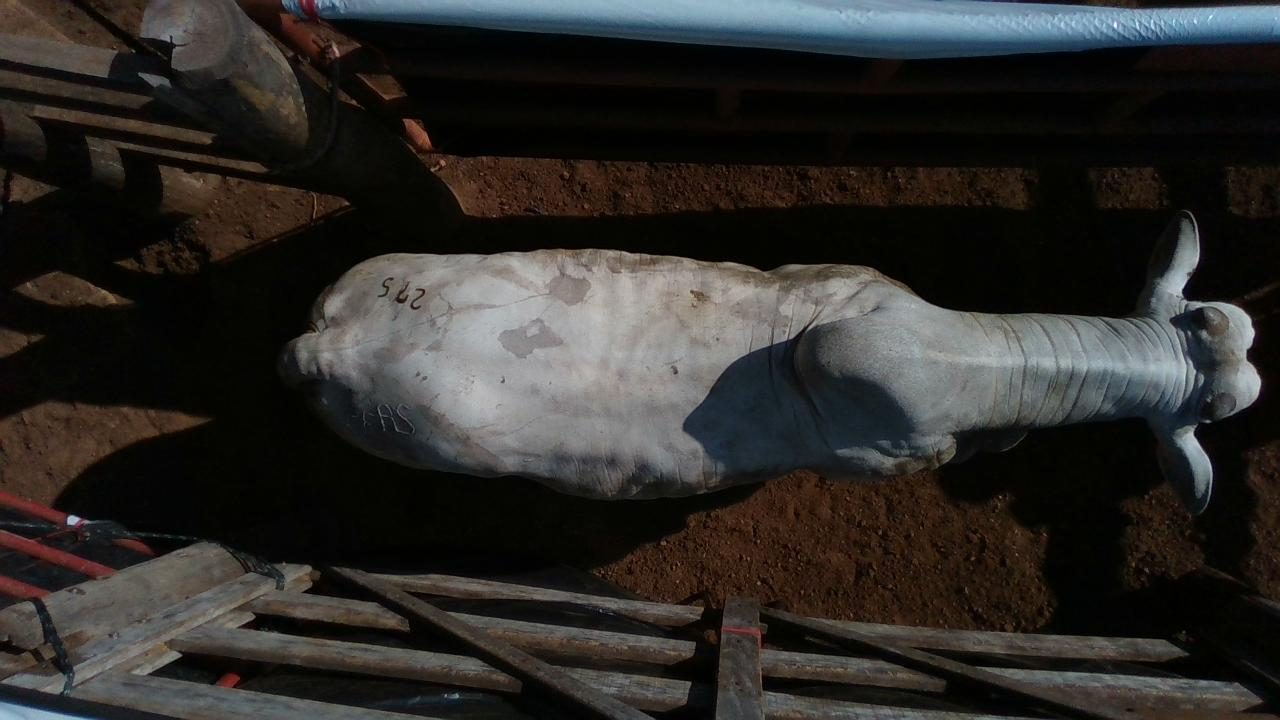cattle: (274, 207, 1262, 516)
